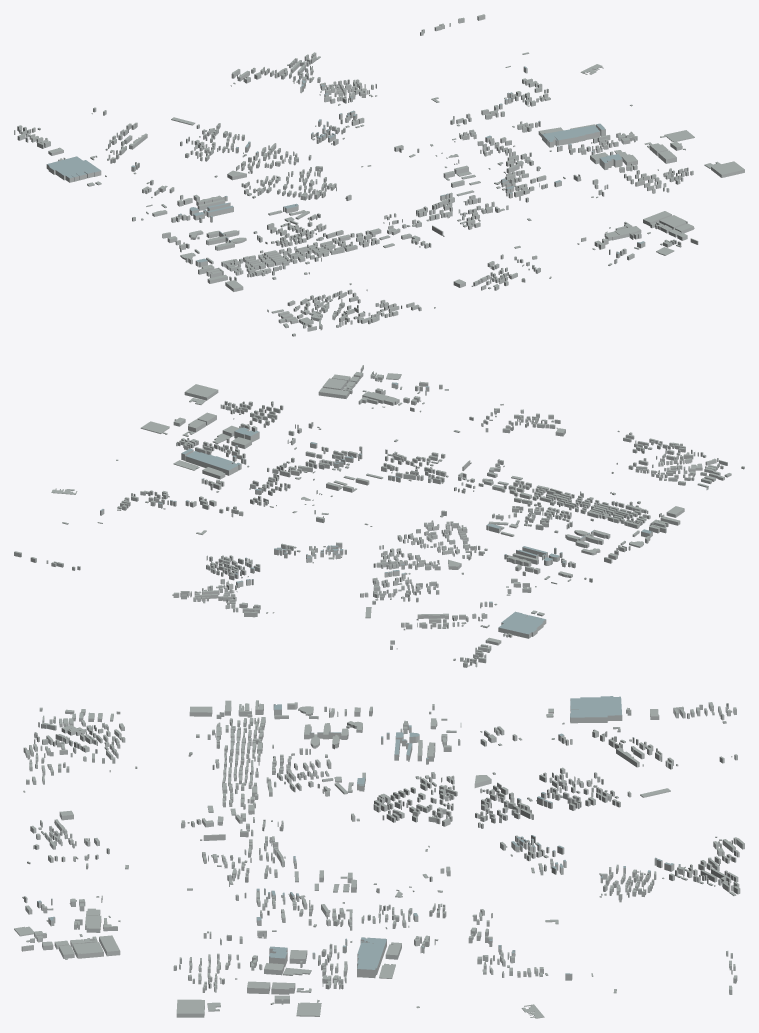
File: far.glb
3 views of the same model, one above another, from view 1: azimuth 30°, elevation 25°; view 2: azimuth 150°, elevation 25°; view 3: azimuth 270°, elevation 25° (orthographic). The views are drawn at different scales.
Size of the model in its own units: 2195 by 28.13 by 2139.
